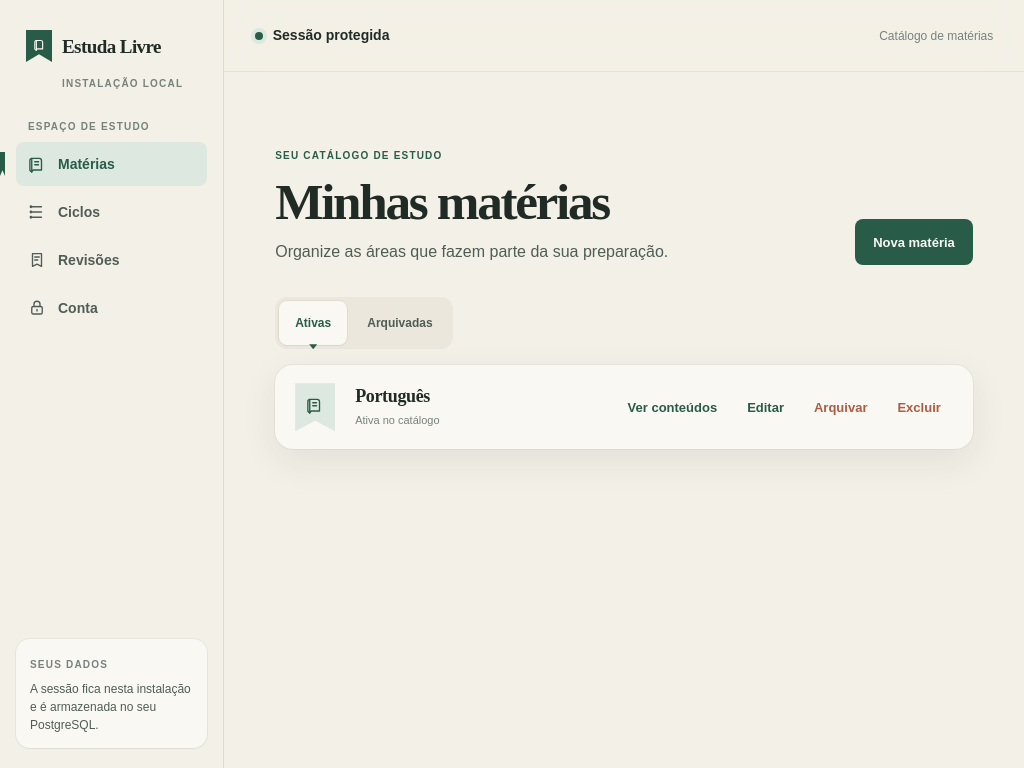
Test: authentication journey › renames a subject in place
The width and height of the screenshot is (1024, 768).
Click the button with aria-label "Editar Português". click: (766, 407)
box: [735,385,796,429]
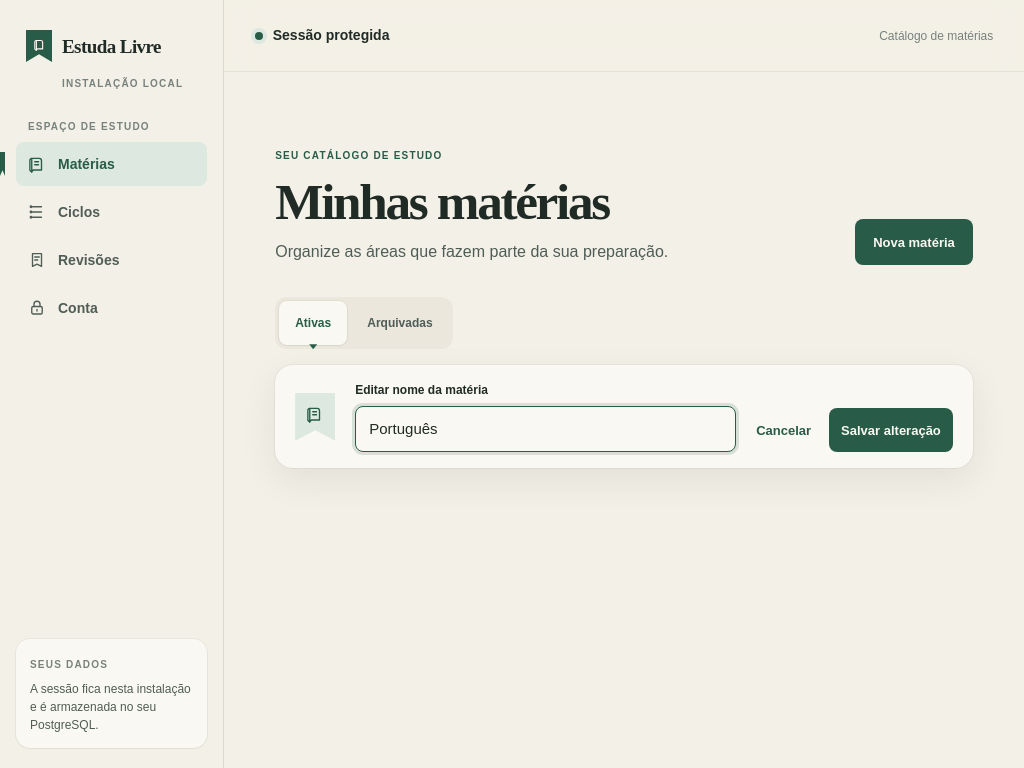
Replace the text in the field labelled "Editar nome da matéria" with "Língua Portuguesa". click: (546, 429)
box: [355,406,736,452]
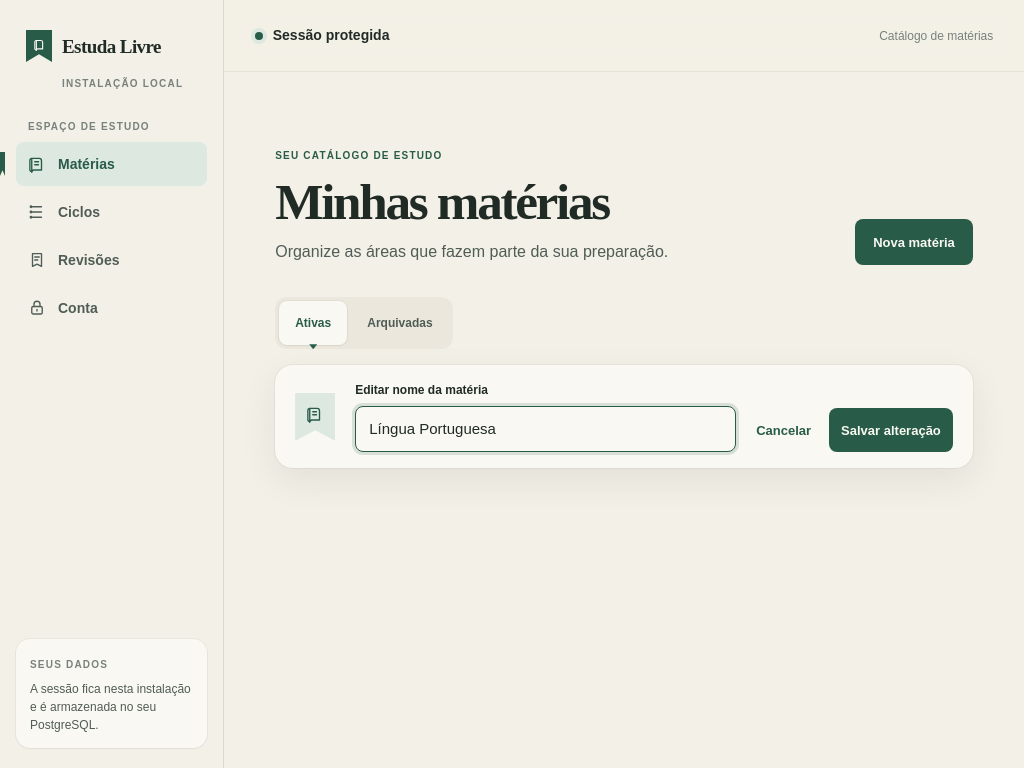
Click the button "Salvar alteração". click: (891, 430)
box: [829,408,953,452]
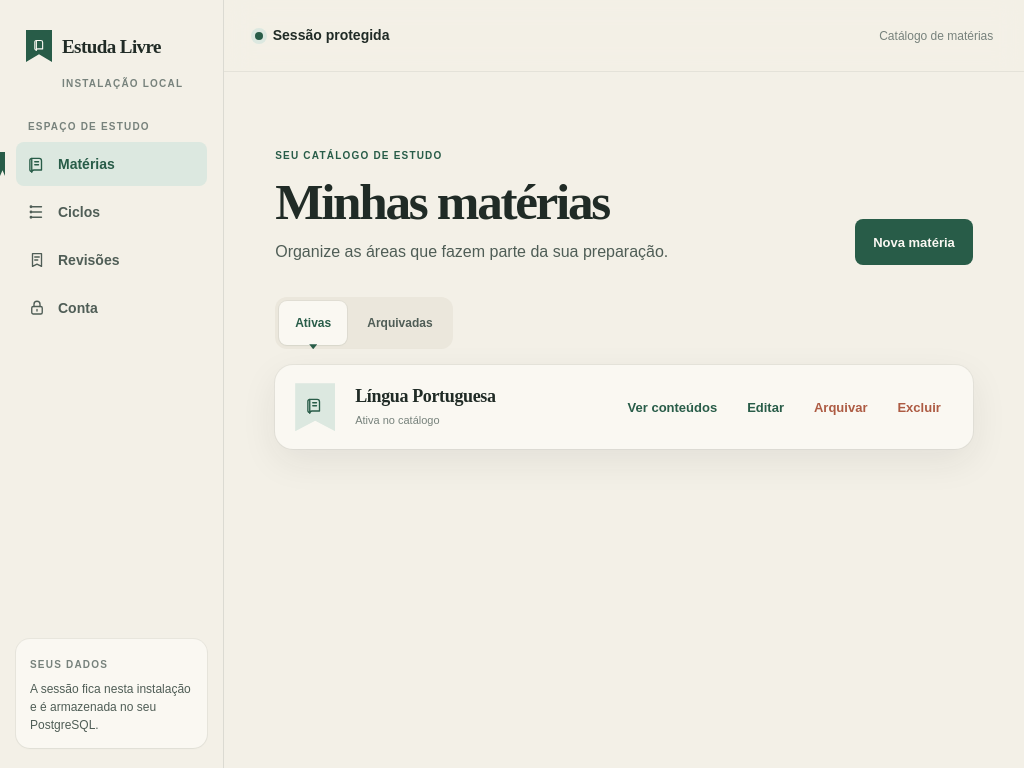
Expected: the heading "Português" is not shown
Expected: the heading "Língua Portuguesa" is shown, [355,386,496,406]
